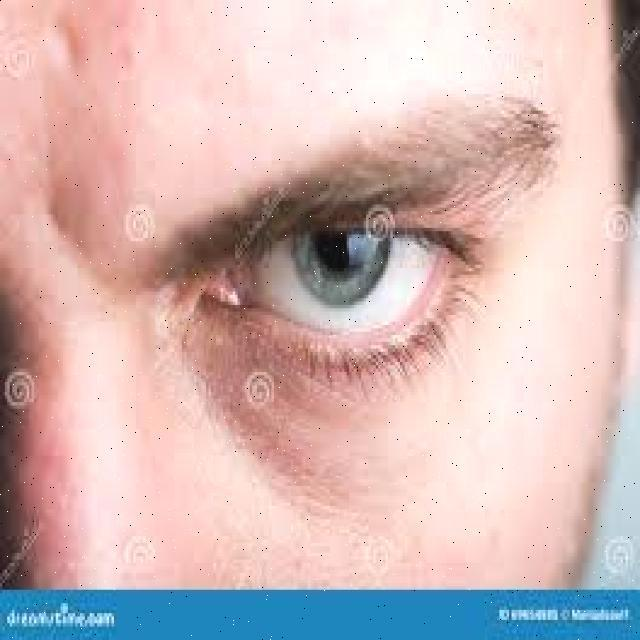Normal: (0, 0, 637, 586), (148, 171, 541, 444)
